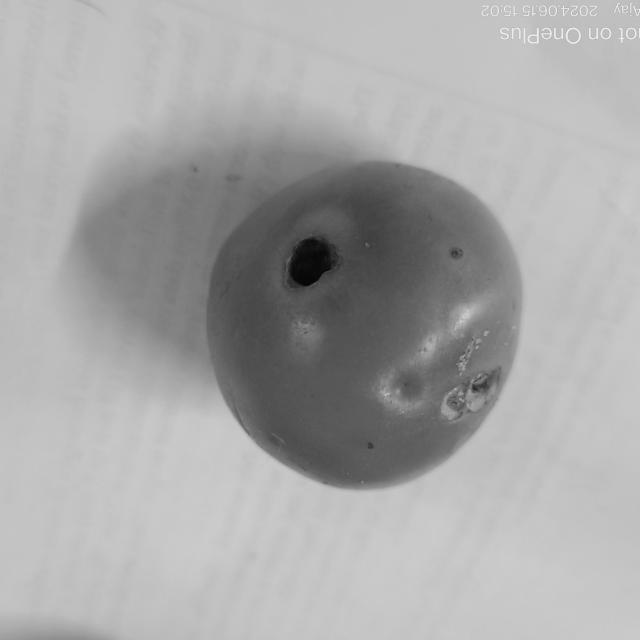fruitworm_bore: (282, 228, 340, 292)
